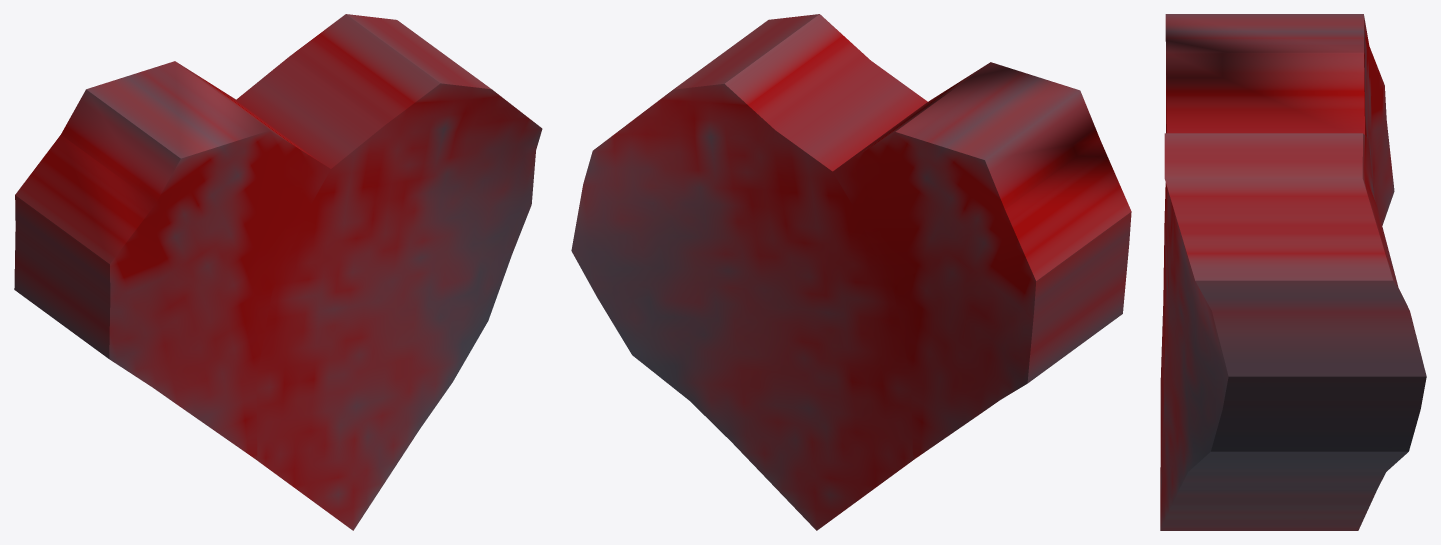
The model's file is SM_Angel_heart 1.fbx.
3 renders of one model, left to right at view 1: azimuth 30°, elevation 25°; view 2: azimuth 150°, elevation 25°; view 3: azimuth 270°, elevation 25°, orthographic. The views are drawn at different scales.
Visible parts, largest first — view 1: polySurface32; view 2: polySurface32; view 3: polySurface32.
Boxes of the visible parts, x1,y1,x2,y2 form: polySurface32: [14, 14, 542, 530]; polySurface32: [571, 14, 1131, 530]; polySurface32: [1160, 14, 1426, 530].
Bounding box in the file's own units: 17 × 15.6 × 8.5.
1 material, 1 textured.
